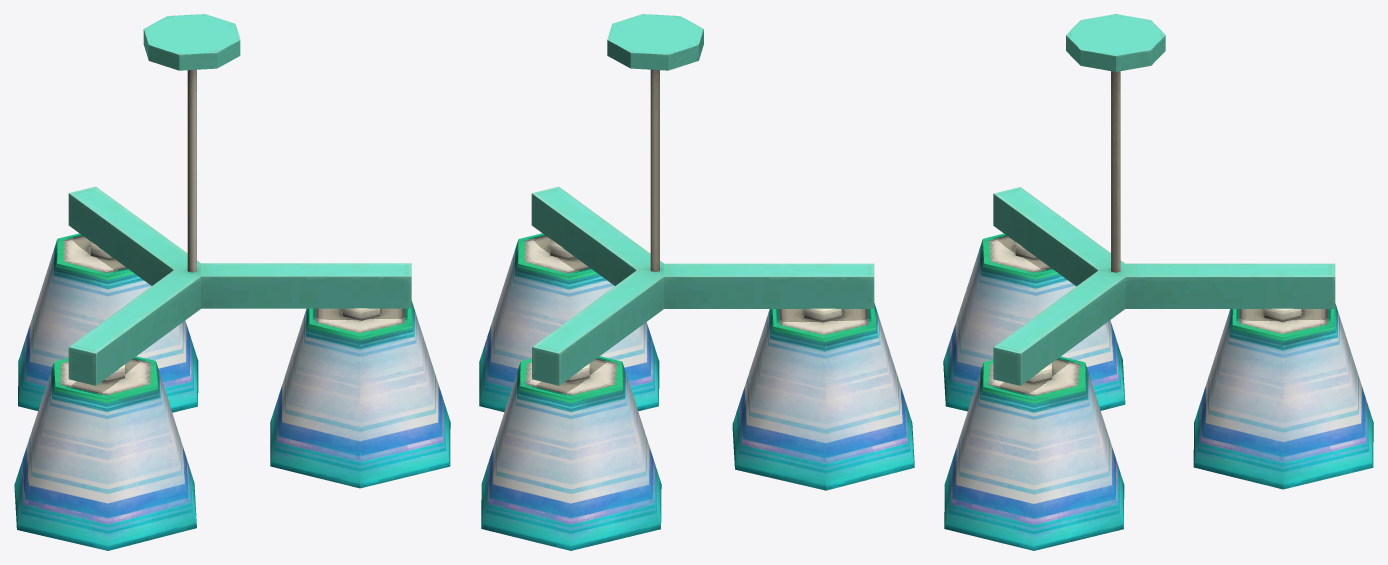
File: furni_0200602_03.FBX
The picture shows the model from 3 angles, left to right: view 1: azimuth 30°, elevation 25°; view 2: azimuth 150°, elevation 25°; view 3: azimuth 270°, elevation 25°; orthographic projection.
Visible parts, largest first — view 1: furni_0200602_03; view 2: furni_0200602_03; view 3: furni_0200602_03.
Part boxes in pixels (x1=…): furni_0200602_03: x1=14, y1=14, x2=450, y2=550; furni_0200602_03: x1=479, y1=14, x2=914, y2=550; furni_0200602_03: x1=943, y1=14, x2=1373, y2=550.
Bounding box in the file's own units: 77.07 × 69.74 × 66.26.
1 material, 1 textured.
